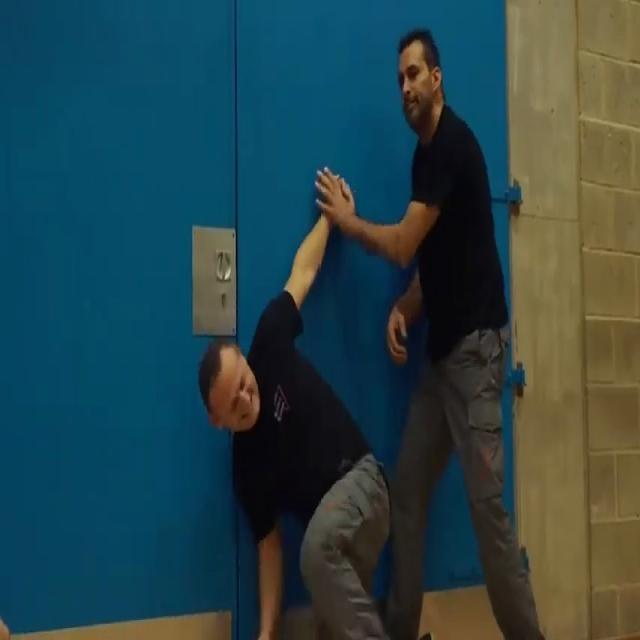fight: (196, 5, 540, 639)
